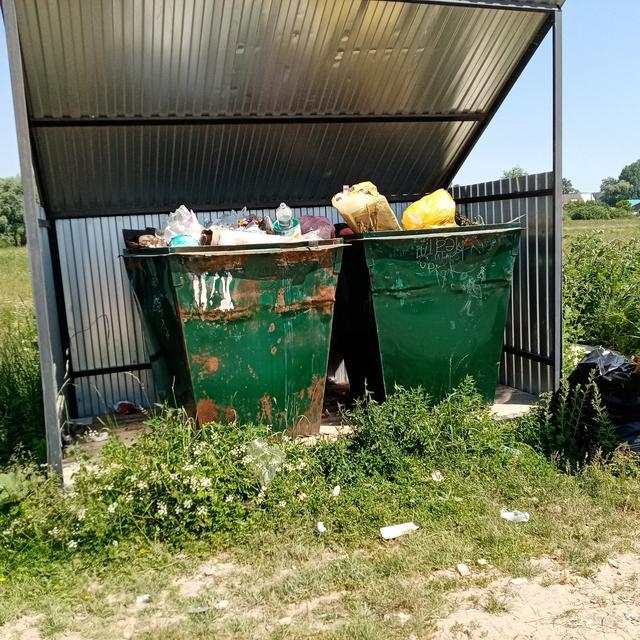Trash_Can_Full: (126, 201, 348, 434), (330, 183, 521, 406)
